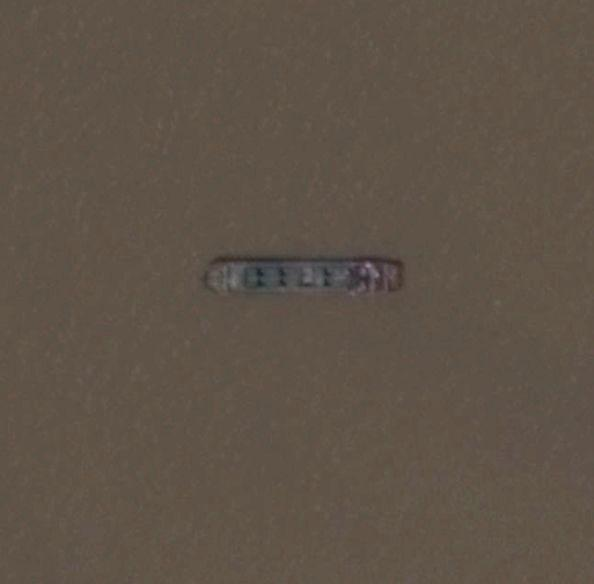Ships: (195, 244, 449, 319)
